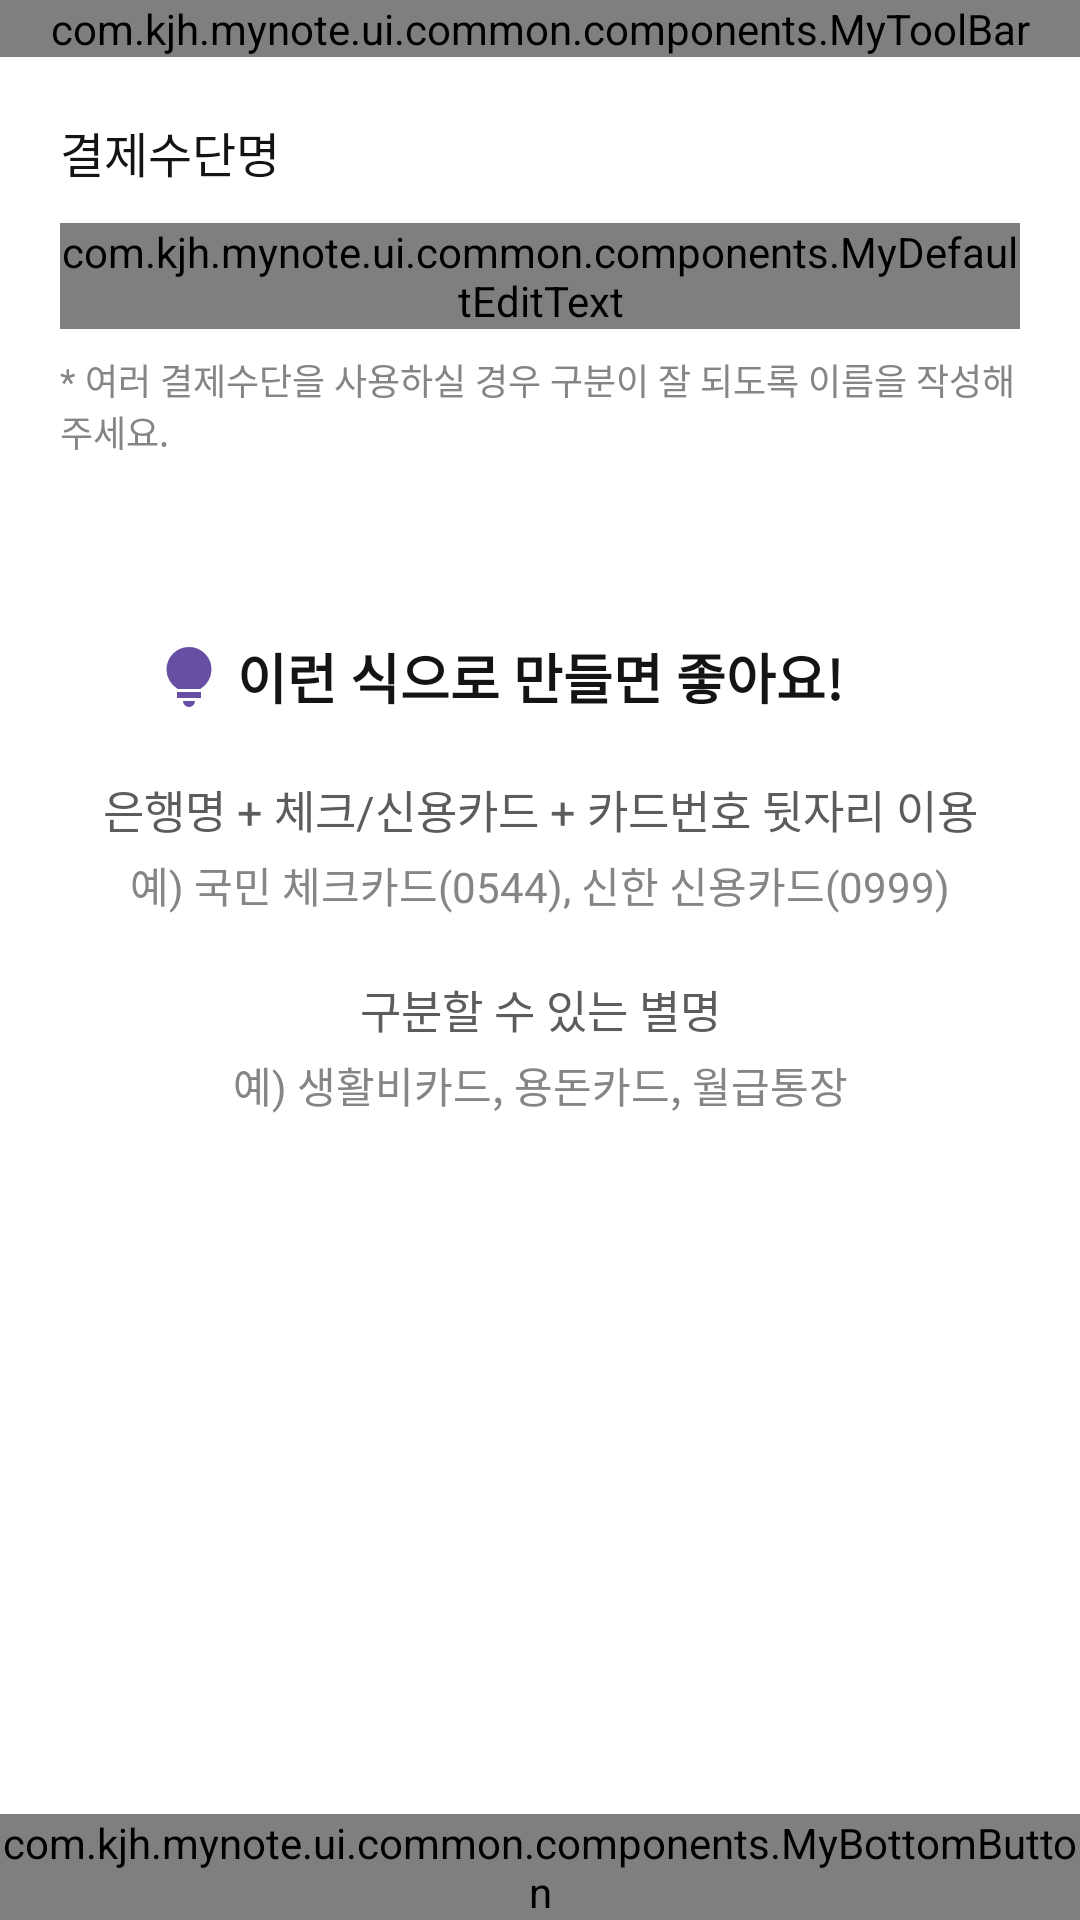

Screen size 1080w x 1920h. Icon name, then its center in pixels as (x=x, y=y):
lightbulb: (x=189, y=677)
